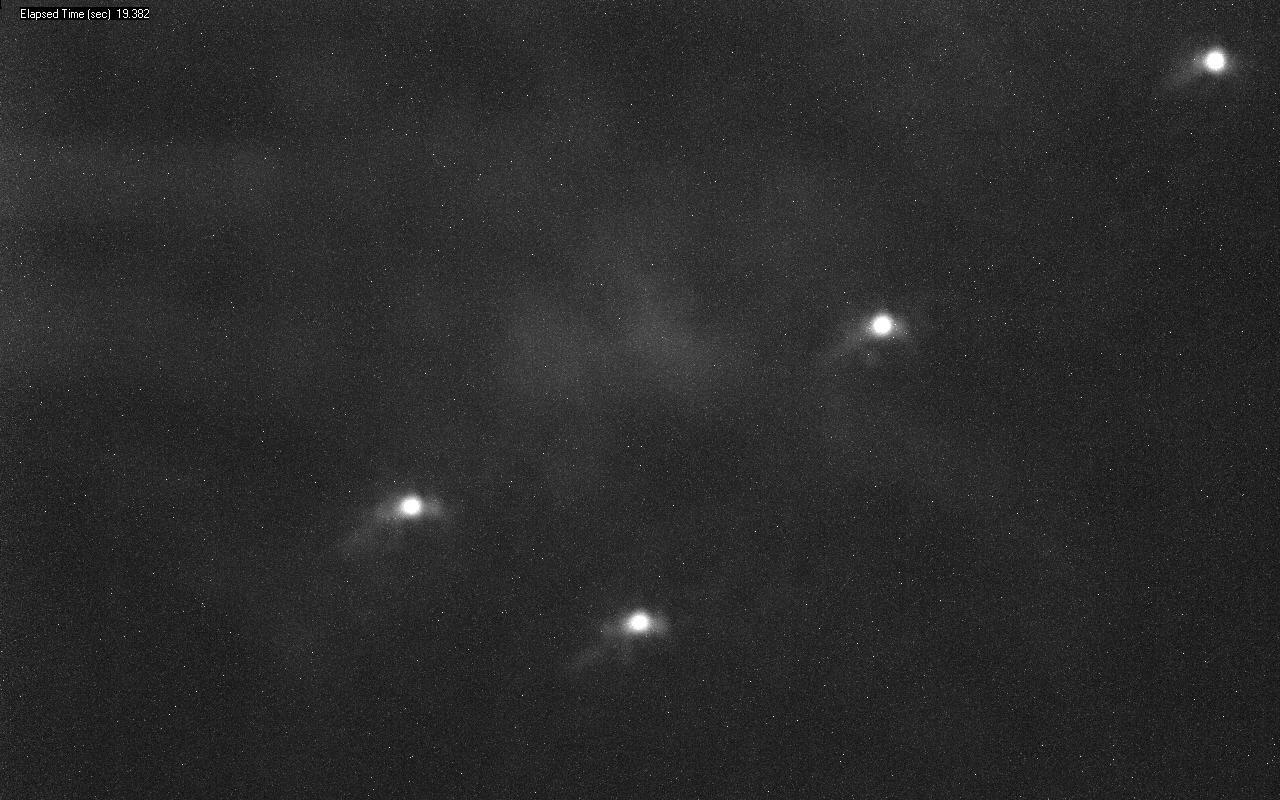Bead: (619, 609, 655, 636), (865, 313, 895, 338), (397, 495, 428, 518), (1202, 48, 1228, 75)
